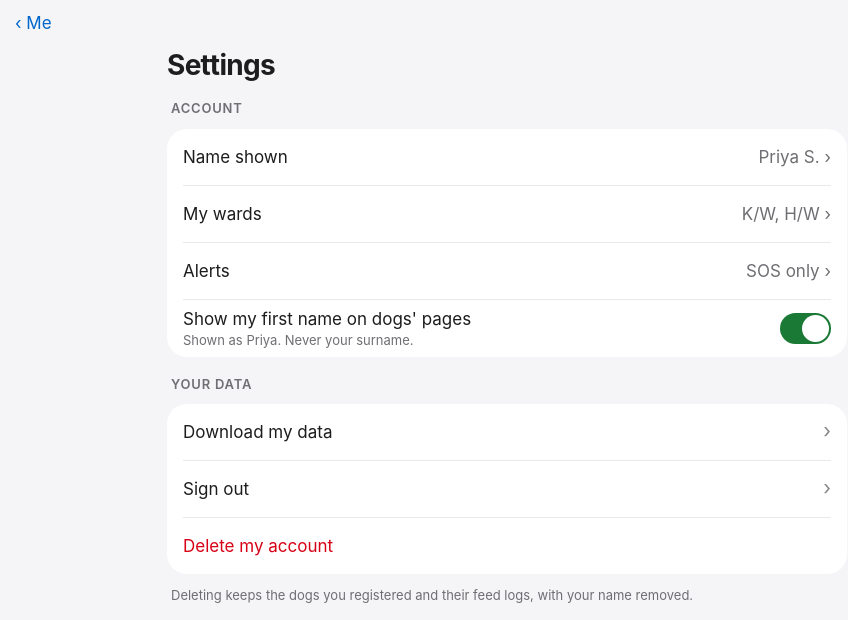
SettingsPage › Show my first name on dogs' pages: on by default, PATCHes showFirstName
Expected: the text "Shown as Priya. Never your surname." is shown, left=183, top=332, right=414, bottom=348
Click the switch named "Show my first name on dogs' pages".
click(806, 328)  # box left=780, top=313, right=831, bottom=344
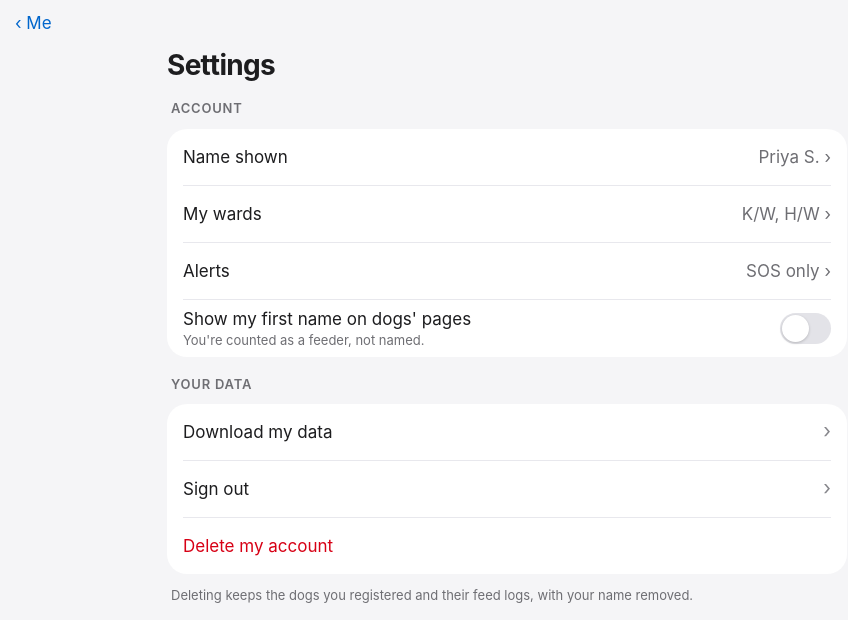
Expected: the text "You're counted as a feeder, not named." is shown, left=183, top=332, right=424, bottom=348
